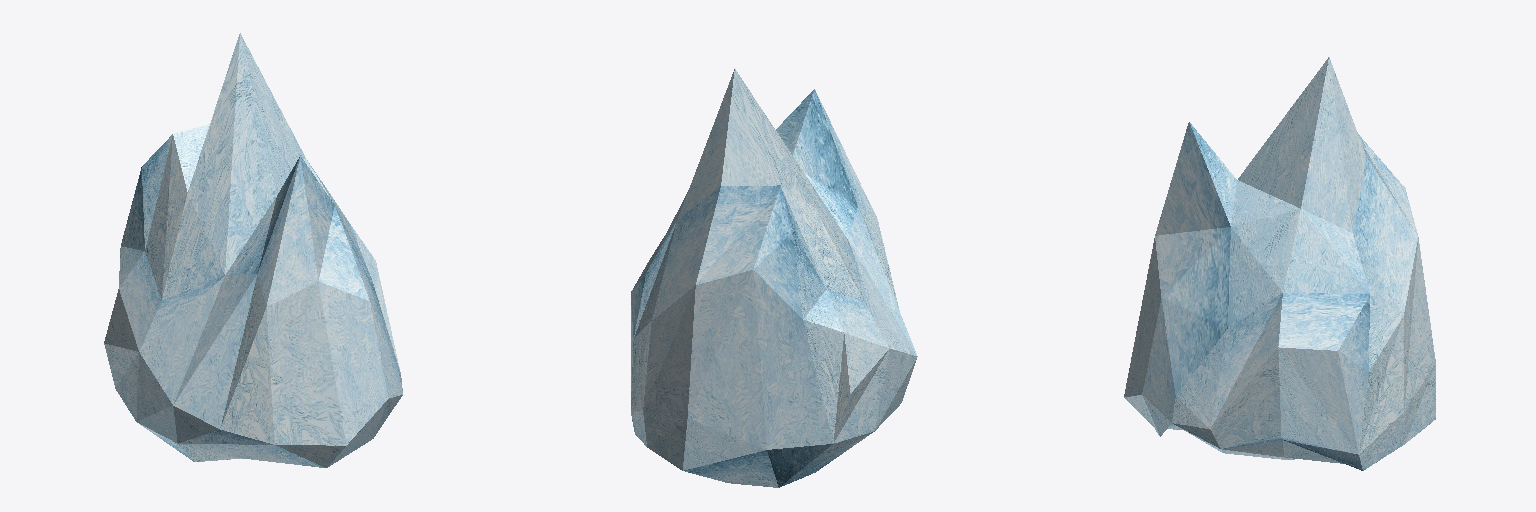
3 renders of one model, left to right at view 1: azimuth 30°, elevation 25°; view 2: azimuth 150°, elevation 25°; view 3: azimuth 270°, elevation 25°, orthographic.
Parts seen in each view (by area): view 1: 1222_Iceberg; view 2: 1222_Iceberg; view 3: 1222_Iceberg.
Boxes of the visible parts, x1=… form: 1222_Iceberg: x1=104, y1=33, x2=402, y2=467; 1222_Iceberg: x1=631, y1=69, x2=917, y2=487; 1222_Iceberg: x1=1124, y1=57, x2=1435, y2=470.
Size of the model in its own units: 61.24 by 99.98 by 69.52.
Materials: 1 (1 with a texture image).